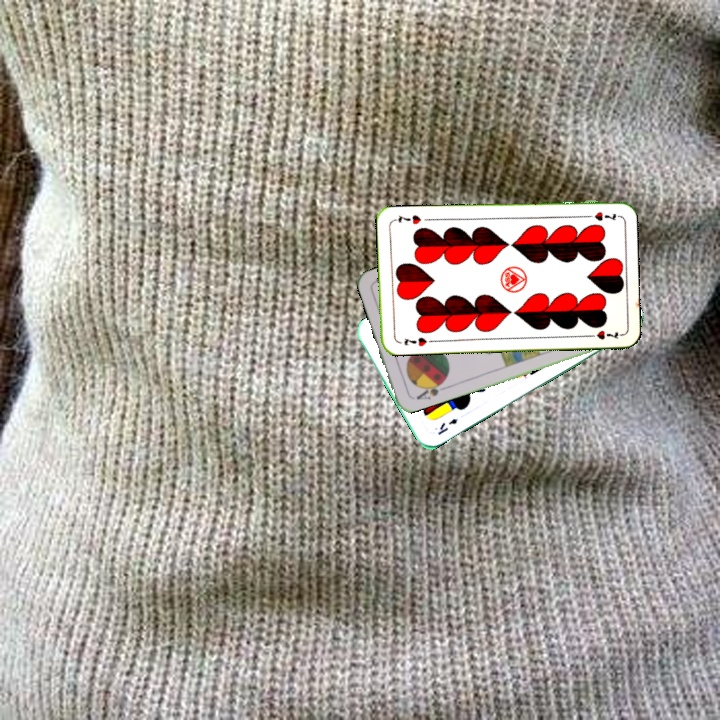EK: (434, 414, 461, 437)
H7: (580, 208, 618, 224), (400, 333, 429, 349)
SA: (412, 377, 449, 402)
